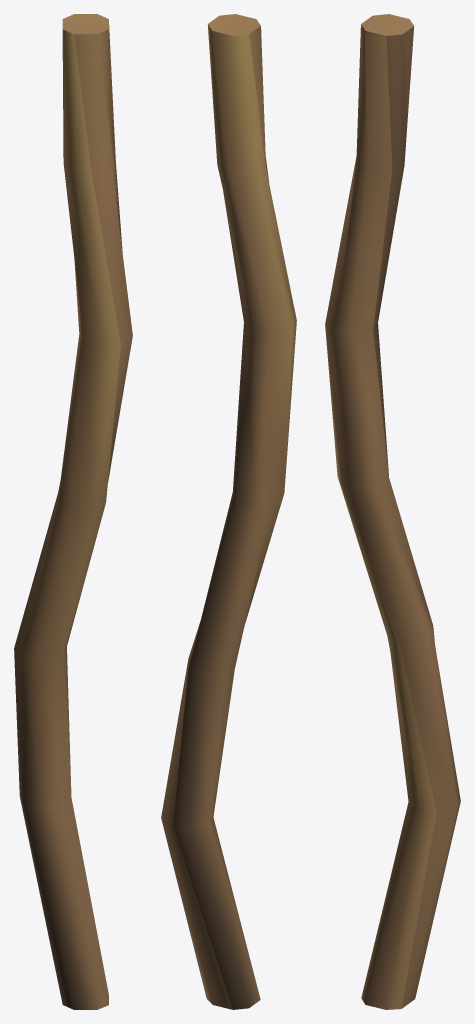
Rendered from vine_vertical_straight_brown_LOD_group.fbx.
3 renders of one model, left to right at view 1: azimuth 90°, elevation 25°; view 2: azimuth 150°, elevation 25°; view 3: azimuth 330°, elevation 25°, orthographic.
Parts seen in each view (by area): view 1: vine_vertical_straight_brown_LOD0; view 2: vine_vertical_straight_brown_LOD0; view 3: vine_vertical_straight_brown_LOD0.
Boxes of the visible parts, box(x1,y1,x2,y2) form: vine_vertical_straight_brown_LOD0: box(14, 14, 132, 1009); vine_vertical_straight_brown_LOD0: box(161, 14, 296, 1009); vine_vertical_straight_brown_LOD0: box(325, 14, 460, 1009).
Size of what is drawn, in the model's own units: 31.81 by 300 by 33.12.
Materials: 1 (1 with a texture image).
